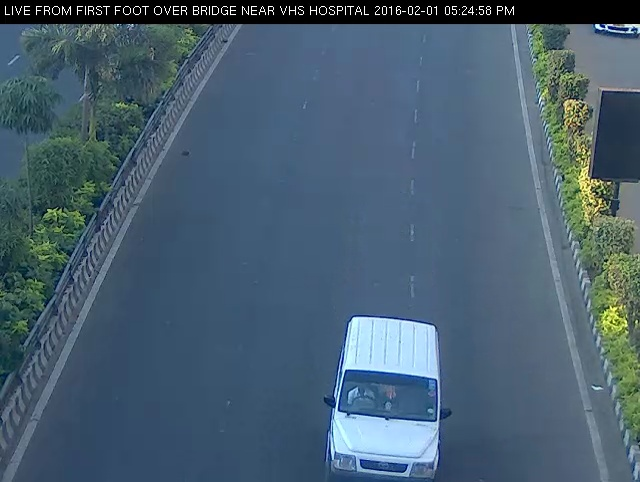Car: (318, 294, 454, 480)
